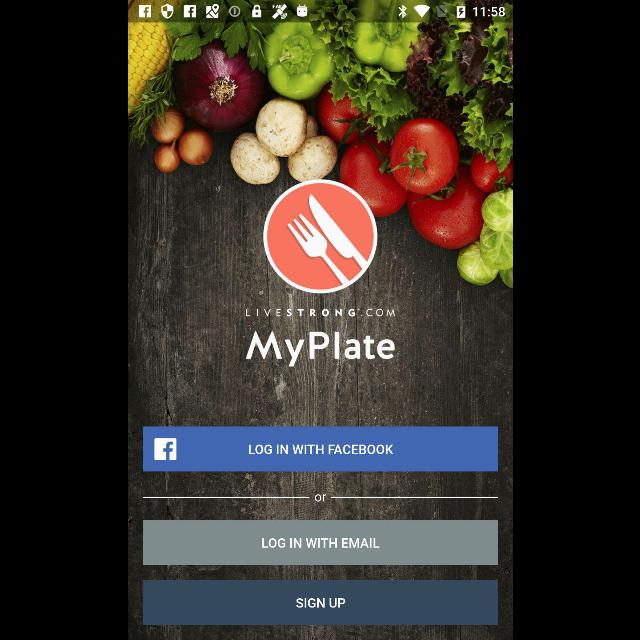backgroundimage: (128, 22, 512, 640)
image: (262, 180, 376, 294)
text: (246, 331, 394, 367), (245, 309, 395, 317), (313, 494, 327, 504)
textbutton: (142, 580, 498, 626), (142, 520, 498, 566), (142, 426, 498, 472)
uppertaskbar: (128, 1, 512, 23)
